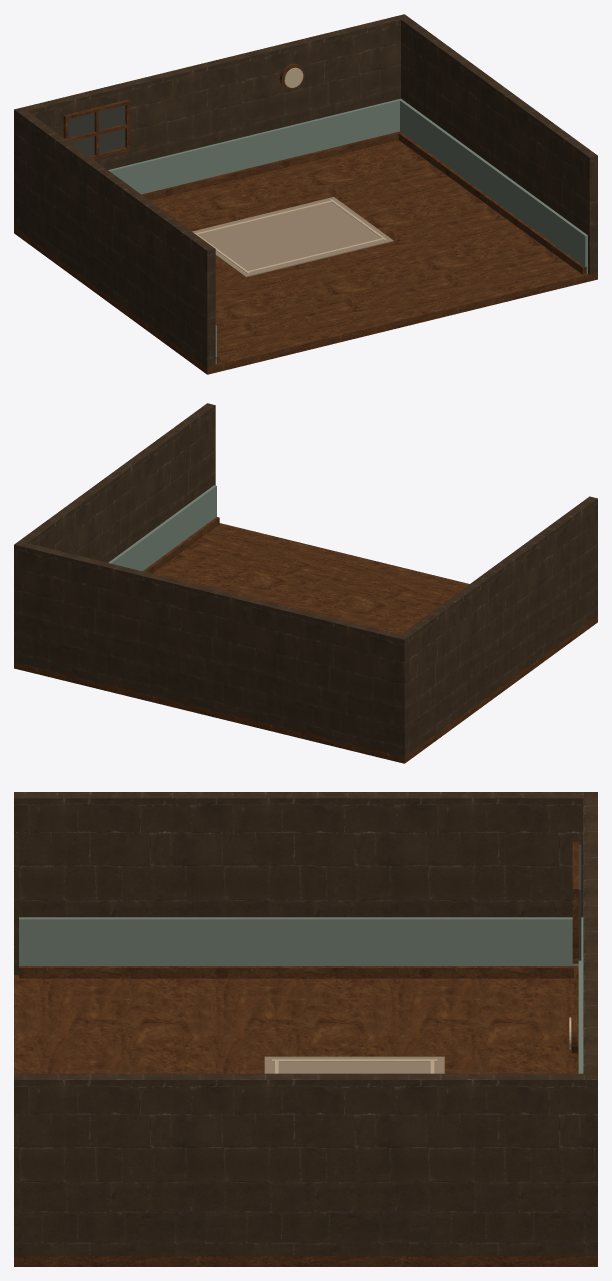
File: living-room-rebuilt.glb
The picture shows the model from 3 angles, top to bottom: view 1: azimuth 30°, elevation 25°; view 2: azimuth 150°, elevation 25°; view 3: azimuth 270°, elevation 25°; orthographic projection. The views are drawn at different scales.
Parts seen in each view (by area): view 1: 木地板, 电视后墙, 侧墙, 侧墙.001, 后墙裙, 地毯, 侧墙裙.001, 后墙踢脚线, 踢脚线.001, 窗暗面; view 2: 电视后墙, 侧墙, 木地板, 侧墙.001, 侧墙裙.001, 踢脚线.001; view 3: 侧墙.001, 侧墙, 木地板, 侧墙裙, 踢脚线, 电视后墙, 地毯, 后墙裙.
Part boxes in pixels (x1,y1,x2,y2): 木地板: [14, 140, 597, 374]; 电视后墙: [14, 15, 408, 229]; 侧墙: [14, 107, 215, 367]; 侧墙.001: [397, 14, 597, 274]; 后墙裙: [108, 99, 401, 194]; 地毯: [192, 197, 393, 277]; 侧墙裙.001: [399, 98, 587, 273]; 后墙踢脚线: [141, 131, 400, 200]; 踢脚线.001: [397, 132, 586, 274]; 窗暗面: [68, 105, 125, 155]; 电视后墙: [15, 541, 409, 756]; 侧墙: [396, 496, 597, 756]; 木地板: [14, 523, 597, 763]; 侧墙.001: [14, 403, 215, 663]; 侧墙裙.001: [108, 485, 216, 571]; 踢脚线.001: [143, 517, 219, 573]; 侧墙.001: [14, 1073, 597, 1256]; 侧墙: [14, 792, 597, 974]; 木地板: [14, 974, 597, 1266]; 侧墙裙: [19, 917, 583, 965]; 踢脚线: [19, 966, 578, 978]; 电视后墙: [583, 792, 597, 1256]; 地毯: [264, 1056, 444, 1073]; 后墙裙: [578, 919, 583, 1073].
Bounding box in the file's own units: 14 × 4.24 × 12.
6 materials, 2 textured.
